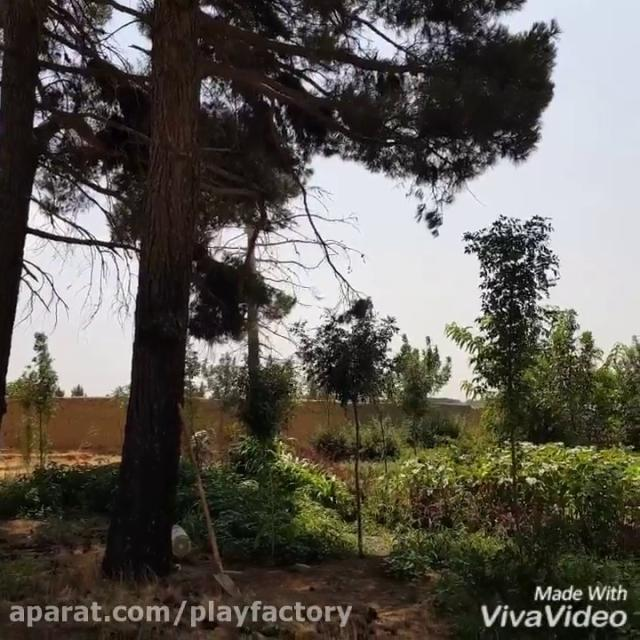drone: (312, 292, 325, 300)
